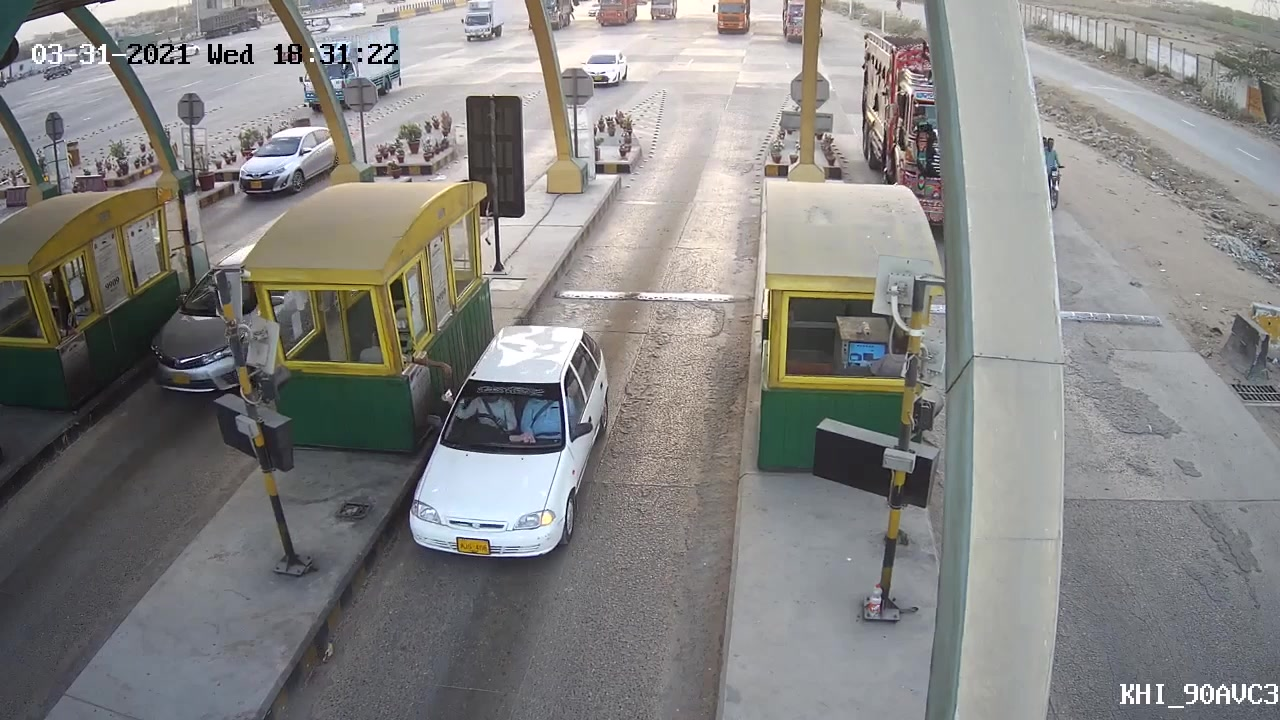F1: (404, 326, 615, 567)
